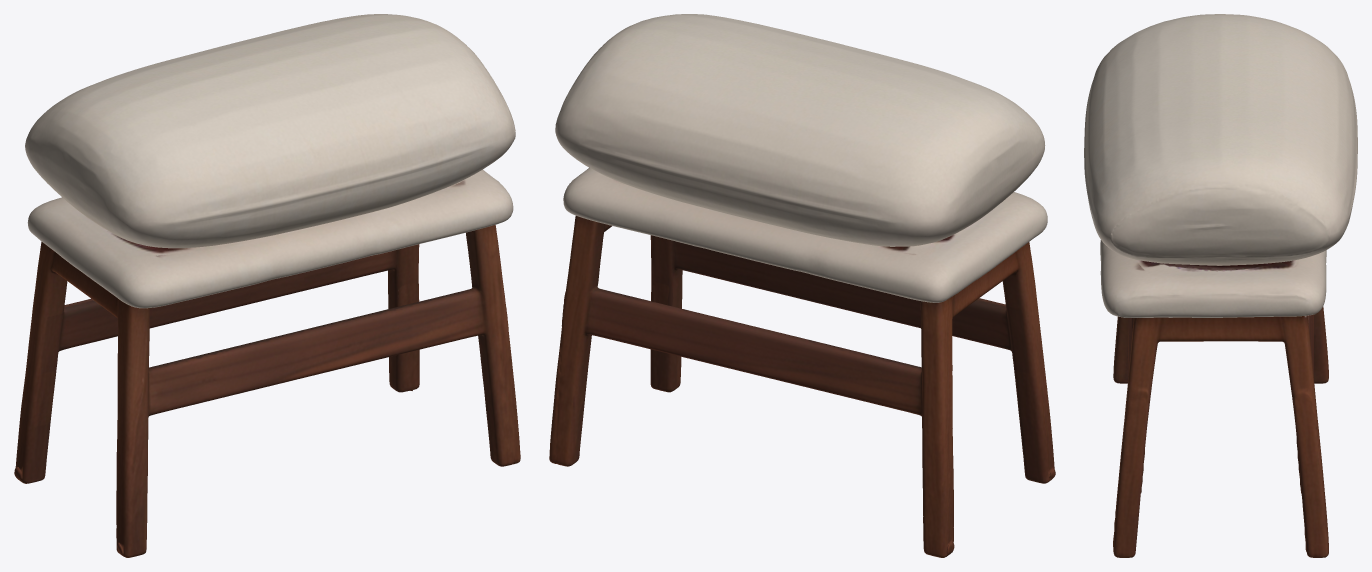
The model's file is product-bohemian-asta-ottoman-beige-06.glb.
3 renders of one model, left to right at view 1: azimuth 30°, elevation 25°; view 2: azimuth 150°, elevation 25°; view 3: azimuth 270°, elevation 25°, orthographic. The views are drawn at different scales.
Visible parts, largest first — view 1: geometry_0; view 2: geometry_0; view 3: geometry_0.
Boxes of the visible parts, x1=… form: geometry_0: x1=14, y1=14, x2=520, y2=557; geometry_0: x1=549, y1=14, x2=1055, y2=557; geometry_0: x1=1084, y1=14, x2=1357, y2=557.
Size of the model in its own units: 1.98 by 1.94 by 1.24.
Materials: 1 (1 with a texture image).
